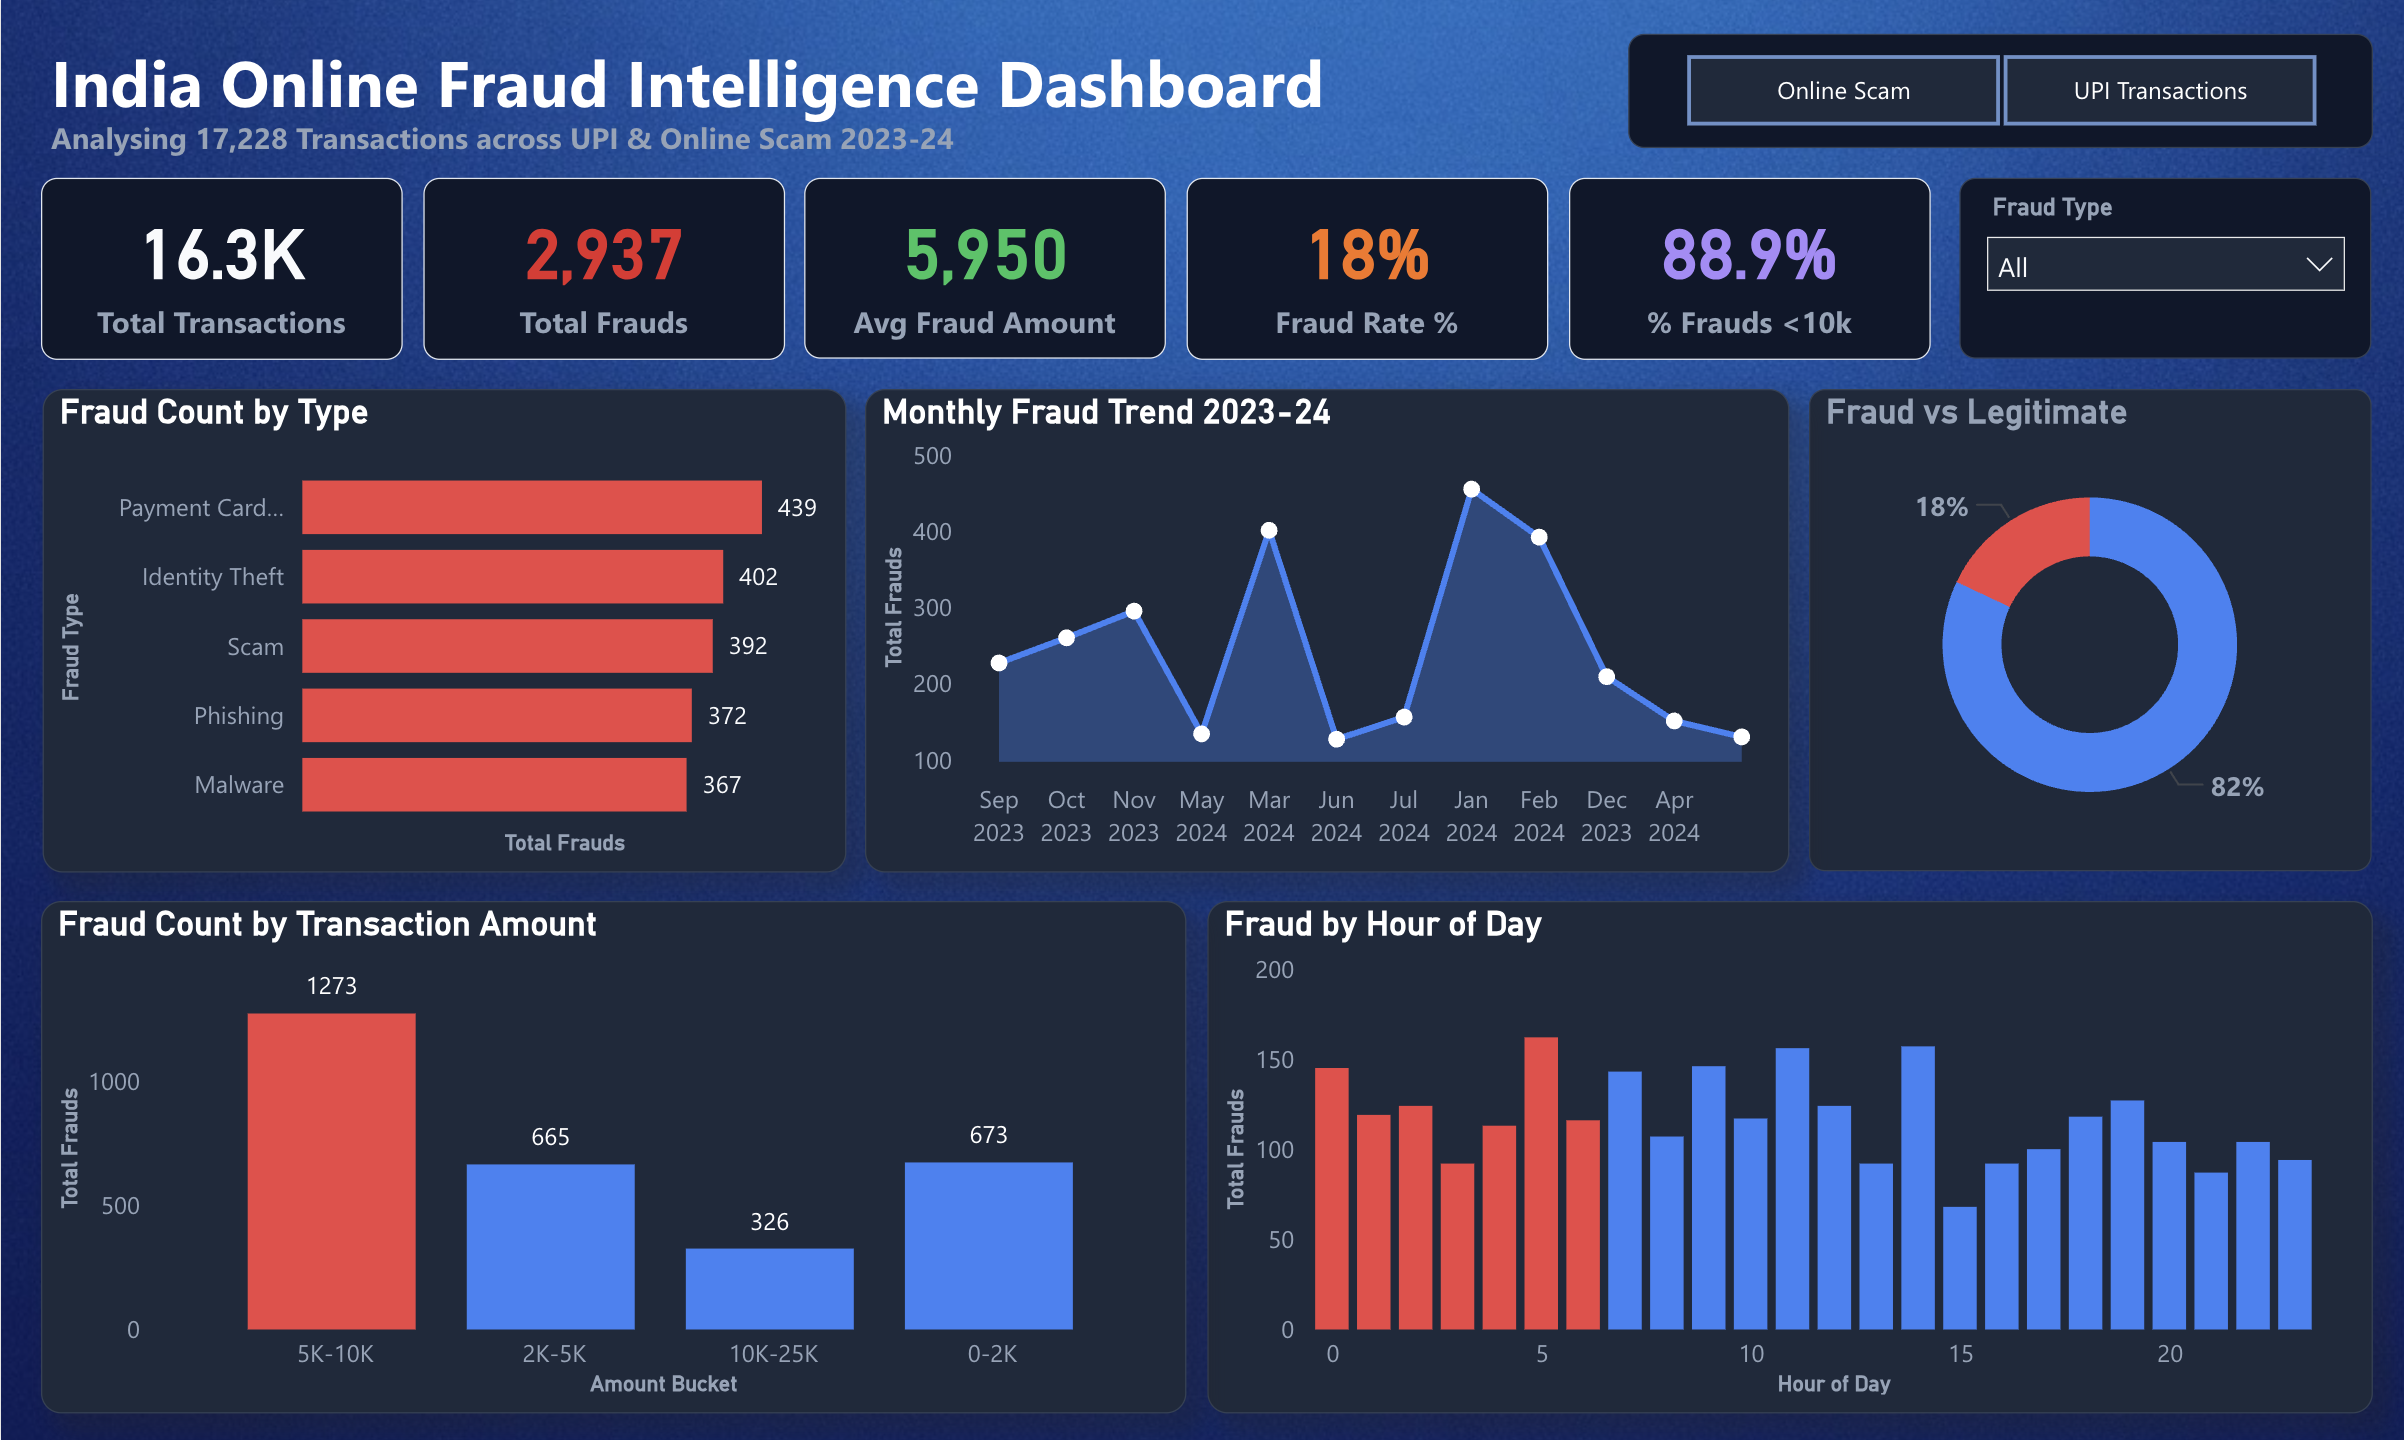

Layout of this report page (visuals, bound fields, positions):
{"tool":"powerbi","page":{"name":"Fraud Overview","canvas":[1200,720],"ordinal":0},"visuals":[{"type":"card","fields":{"Values":["Master_Fraud_Table.Total_Transactions"]},"box":[20,90,180,90.4],"z":0},{"type":"card","title":"hello","fields":{"Values":["Master_Fraud_Table.Fraud_Rate_%"]},"box":[590,90,180,90.4],"z":1000},{"type":"card","fields":{"Values":["Master_Fraud_Table.Total_Frauds"]},"box":[210,90,180,90.4],"z":2000},{"type":"card","fields":{"Values":["Master_Fraud_Table.Avg_Fraud_Amount"]},"box":[400,90,180.1,90],"z":3000},{"type":"donutChart","title":"Fraud vs Legitimate","fields":{"Category":["Master_Fraud_Table.IS_Fraudulent"],"Y":["Master_Fraud_Table.Total_Transactions"]},"box":[900,195,280,240],"z":4000},{"type":"clusteredBarChart","title":"Fraud Count by Type","fields":{"Category":["Master_Fraud_Table.Fraud_Type"],"Y":["Master_Fraud_Table.Total_Frauds"]},"box":[20.4,195,400,240.8],"z":5000},{"type":"areaChart","title":"Monthly Fraud Trend 2023-24","fields":{"Category":["Master_Fraud_Table.Month_Name"],"Y":["Master_Fraud_Table.Total_Frauds"]},"box":[430,195,460,240.8],"z":6000},{"type":"textbox","box":[20,15,677.2,59.6],"z":7000},{"type":"clusteredColumnChart","title":"Fraud by Hour of Day","fields":{"Category":["Master_Fraud_Table.Hour_of_Day"],"Y":["Master_Fraud_Table.Total_Frauds"]},"box":[600,450,580,255],"z":8000},{"type":"clusteredColumnChart","title":"Fraud Count by Transaction Amount","fields":{"Category":["Master_Fraud_Table.Amount_Bucket"],"Y":["Master_Fraud_Table.Total_Frauds"]},"box":[20,450,570,255],"z":9000},{"type":"card","title":"hello","fields":{"Values":["_Measures.UPI Frauds <10k"]},"box":[780,90,180,90.7],"z":10000},{"type":"slicer","fields":{"Values":["Master_Fraud_Table.Fraud_Type"]},"box":[974.7,89.7,205.2,89.7],"z":11000},{"type":"textbox","box":[20,55,540.2,29.4],"z":12000},{"type":"slicer","fields":{"Values":["Master_Fraud_Table.DataSource"]},"box":[809.7,18.3,370.4,56.8],"z":13001}]}

Visuals, with their boxes in screenshot pixels (x1, y1, x2, y2), scaled from the page's 1200x720 canvas onto the 2404x1440 screenshot:
card - Master_Fraud_Table.Total_Transactions: (40,180,401,361)
"hello" card: (1182,180,1543,361)
card - Master_Fraud_Table.Total_Frauds: (421,180,781,361)
card - Master_Fraud_Table.Avg_Fraud_Amount: (801,180,1162,360)
"Fraud vs Legitimate" donutChart: (1803,390,2364,870)
"Fraud Count by Type" clusteredBarChart: (41,390,842,872)
"Monthly Fraud Trend 2023-24" areaChart: (861,390,1783,872)
textbox: (40,30,1397,149)
"Fraud by Hour of Day" clusteredColumnChart: (1202,900,2364,1410)
"Fraud Count by Transaction Amount" clusteredColumnChart: (40,900,1182,1410)
"hello" card: (1563,180,1923,361)
slicer - Master_Fraud_Table.Fraud_Type: (1953,179,2364,359)
textbox: (40,110,1122,169)
slicer - Master_Fraud_Table.DataSource: (1622,37,2364,150)
